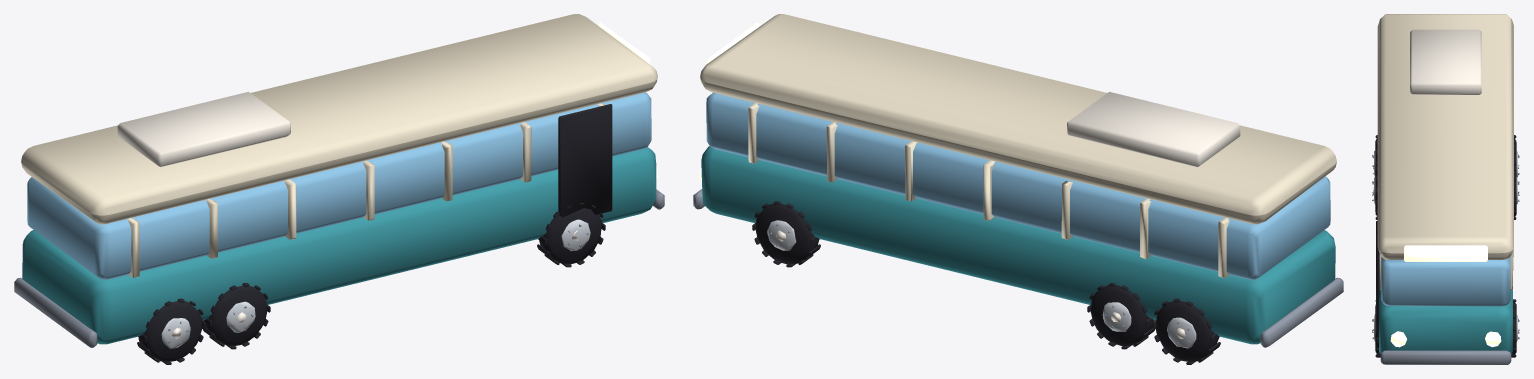
The model's file is bus.glb.
3 views of the same model, side by side, from view 1: azimuth 30°, elevation 25°; view 2: azimuth 150°, elevation 25°; view 3: azimuth 270°, elevation 25° (orthographic). The views are drawn at different scales.
Parts seen in each view (by area): view 1: bus; view 2: bus; view 3: bus.
Part boxes in pixels (box(x1,y1,x2,y2)): bus: box(14, 14, 664, 364); bus: box(693, 14, 1343, 364); bus: box(1372, 14, 1519, 364).
Size of the model in its own units: 10.67 by 3.44 by 2.82.
1 material, 1 textured.
